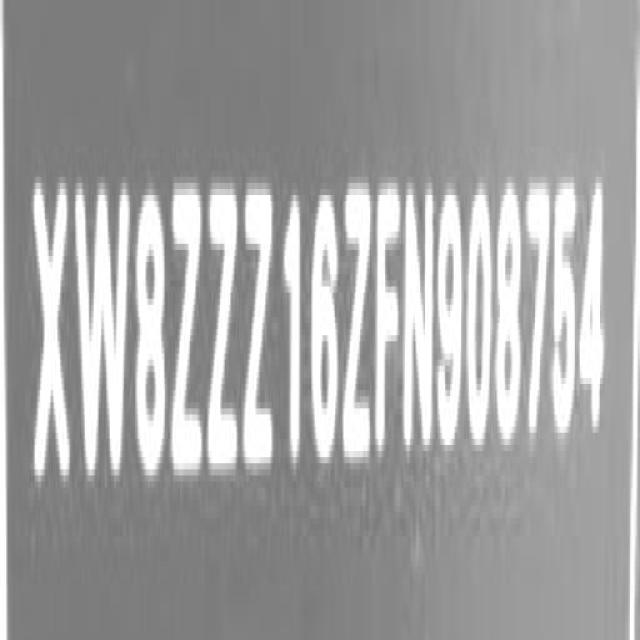0: (465, 174, 495, 456)
1: (283, 179, 306, 484)
4: (579, 176, 607, 445)
5: (550, 172, 578, 452)
6: (308, 187, 340, 465)
7: (524, 172, 552, 454)
8: (136, 181, 166, 496), (496, 178, 526, 452)
9: (436, 178, 464, 457)
F: (373, 167, 402, 465)
N: (402, 175, 436, 463)
W: (74, 172, 133, 498)
X: (34, 166, 71, 504)
Z: (206, 173, 242, 492), (241, 174, 275, 486), (172, 173, 205, 492), (342, 176, 376, 473)
